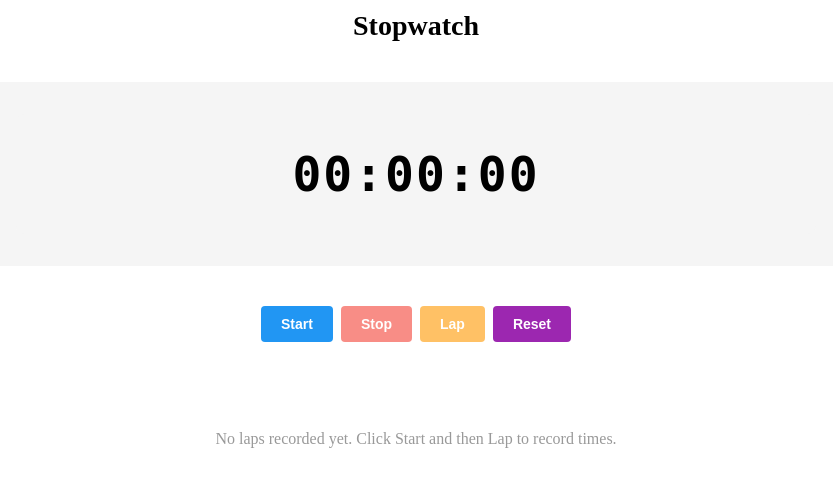
Stopwatch Container Component (T053, T090) › Reset functionality › should reset time and laps
// Start, record lap, reset
Click the button with test id "button-start". click: (297, 324)
box: [261,306,333,342]
Wait 100 ms
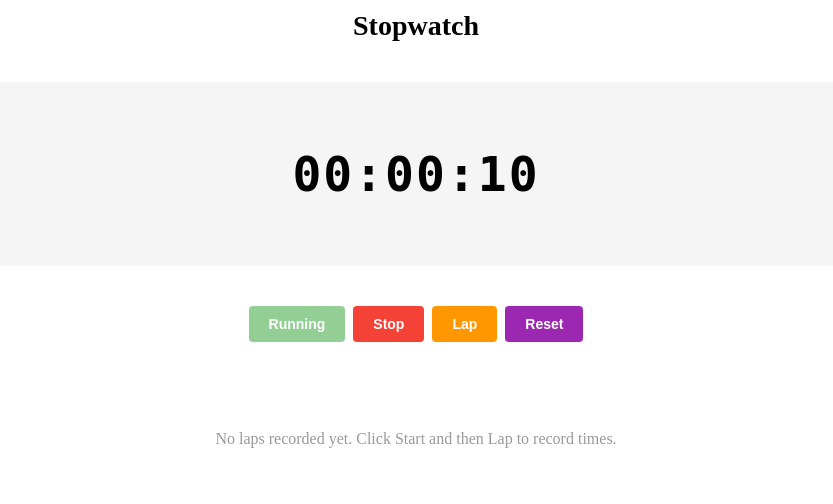
Expected: the button with test id "button-start" is disabled, [248,306,345,342]
Click the button with test id "button-lap". click: (465, 324)
box: [432,306,497,342]
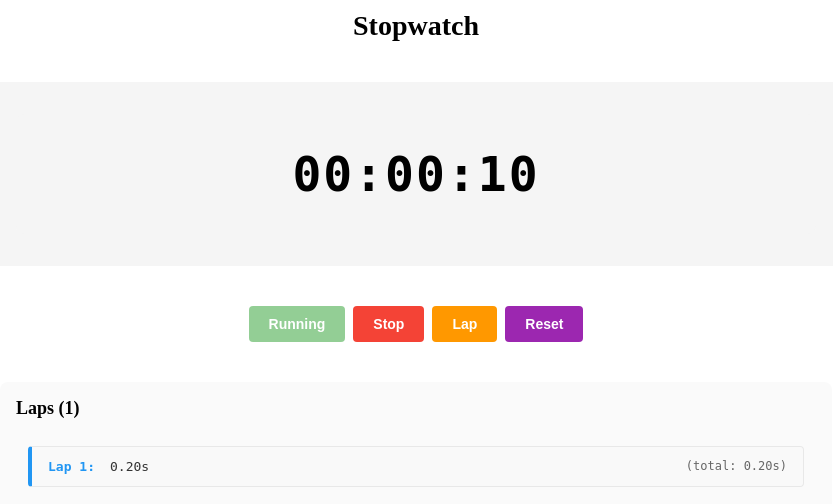
Expected: the heading "Laps (1)" is shown, [16,398,80,418]
Click the button with test id "button-reset". click: (544, 324)
box: [505,306,583,342]
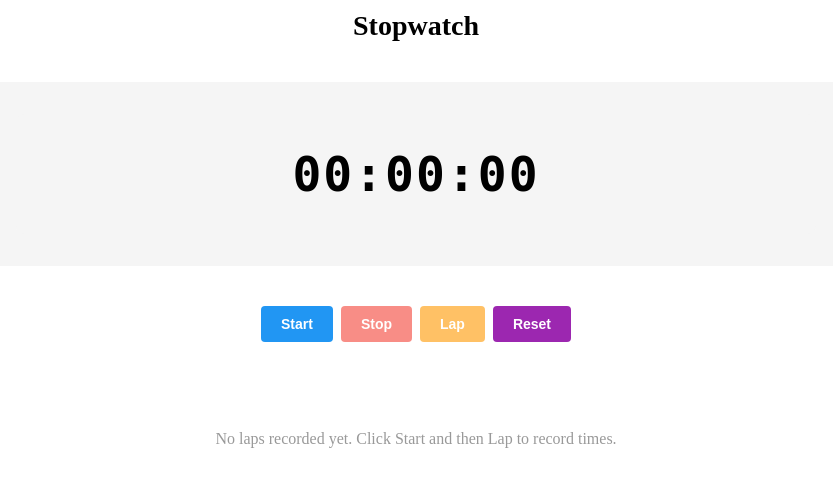
Expected: the message with test id "stopwatch-display" reads "00:00:00", [292,146,540,202]
Expected: the text "No laps recorded" is shown, [215,430,617,447]
